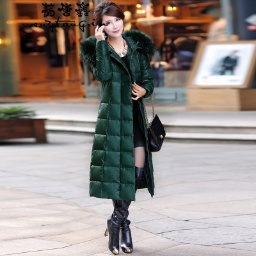face: (89, 3, 128, 39)
